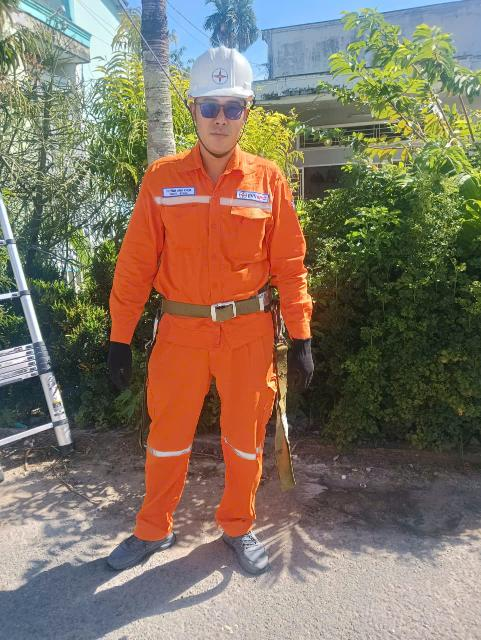gloves: (285, 326, 341, 395), (94, 336, 159, 395)
harness: (153, 275, 302, 336)
helmet: (180, 39, 267, 117)
shoes: (217, 506, 296, 590), (95, 508, 187, 575)
